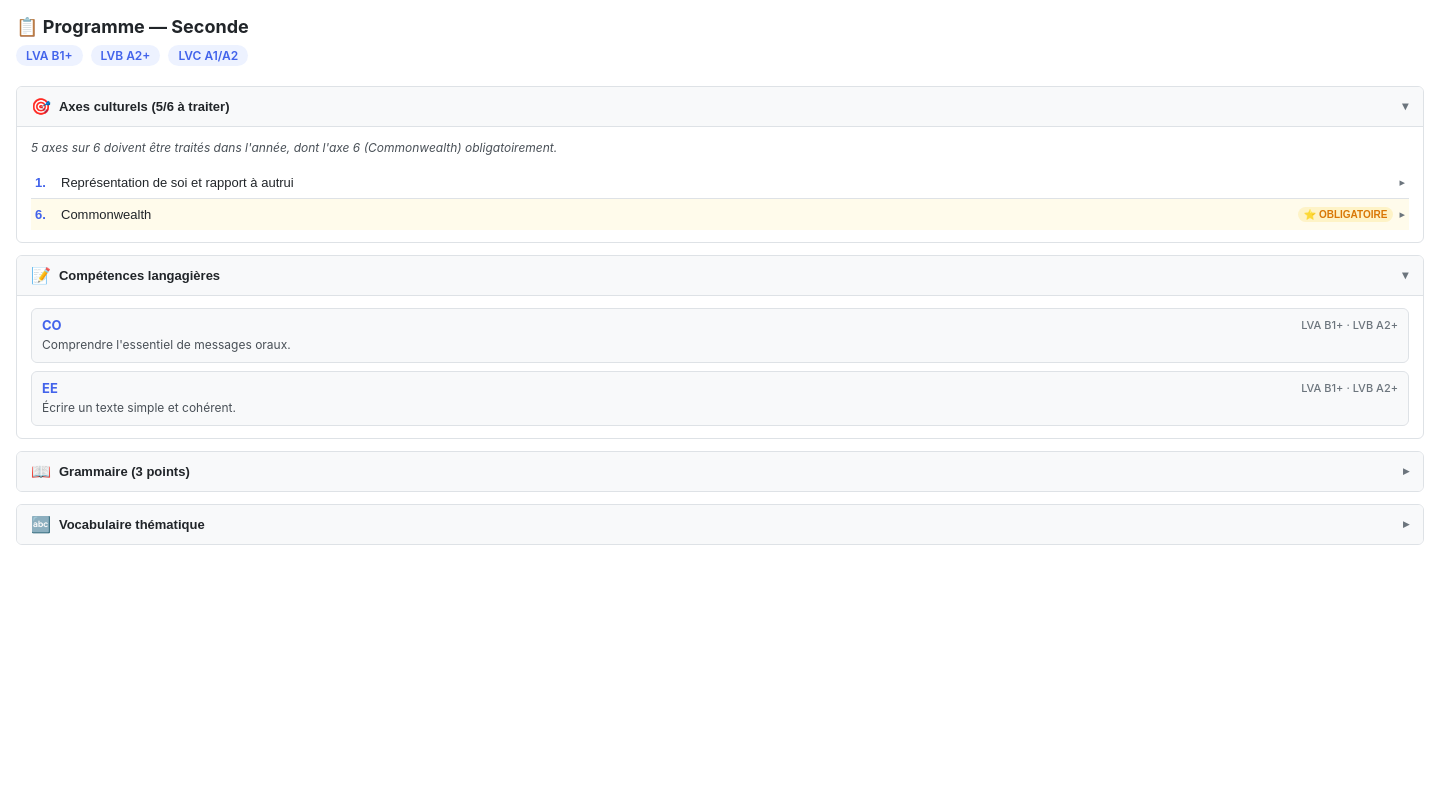
Test: ProgrammePanel › expands an axe to show description and examples on click
Expected: the text "L'expression de l'identité" is not shown
Click axe 1 toggle
Click the button "1. Représentation de soi et rapport à autrui ▸" at {"x": 177, "y": 182}, box [31,167,1409,198]
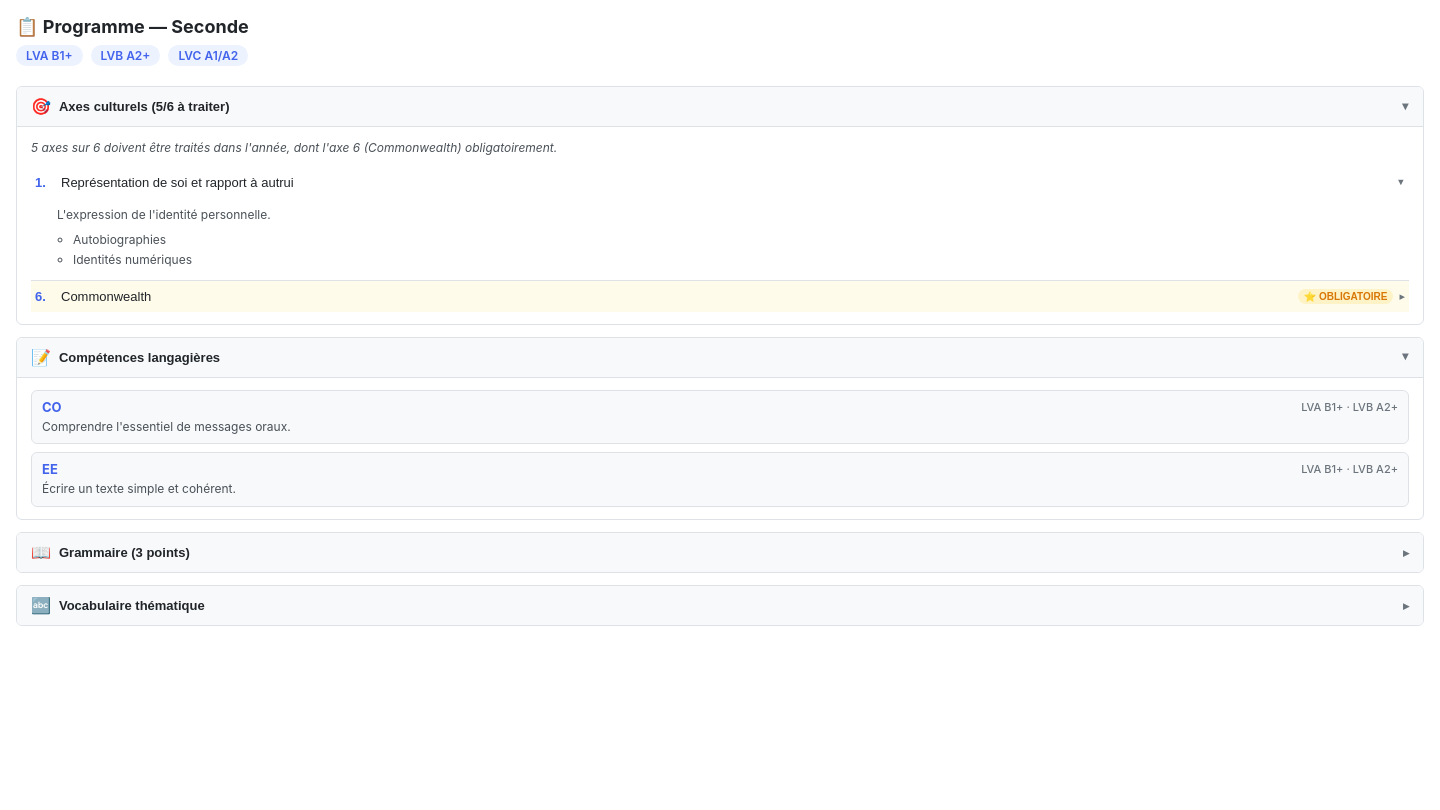
Now the text "L'expression de l'identité personnelle." is shown, box [57,207,271,222]
Now the list item "Autobiographies" is shown, box [73,232,166,247]
Now the list item "Identités numériques" is shown, box [73,252,192,267]
